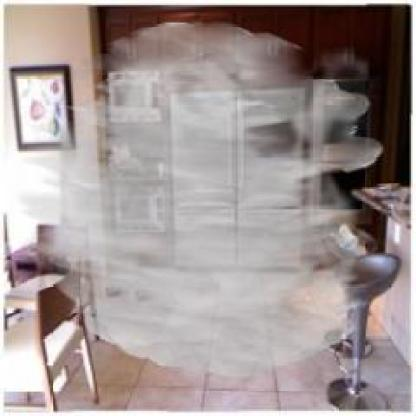Smoke: (16, 20, 384, 377)
